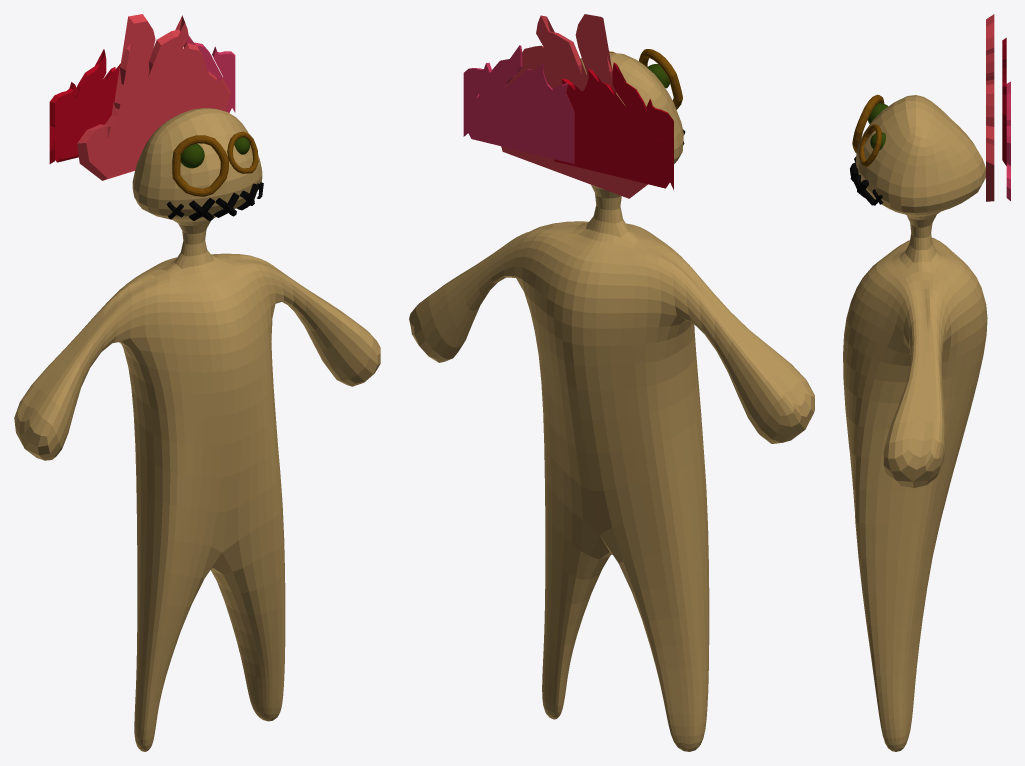
The model's file is muñecodefinitivo1.fbx.
3 renders of one model, left to right at view 1: azimuth 30°, elevation 25°; view 2: azimuth 150°, elevation 25°; view 3: azimuth 270°, elevation 25°, orthographic. The views are drawn at different scales.
Visible parts, largest first — view 1: Cube; view 2: Cube; view 3: Cube.
Part boxes in pixels (x1,y1,x2,y2): Cube: (14, 14, 380, 751); Cube: (409, 14, 814, 751); Cube: (843, 14, 1010, 751).
Size of the model in its own units: 472 by 882 by 194.
